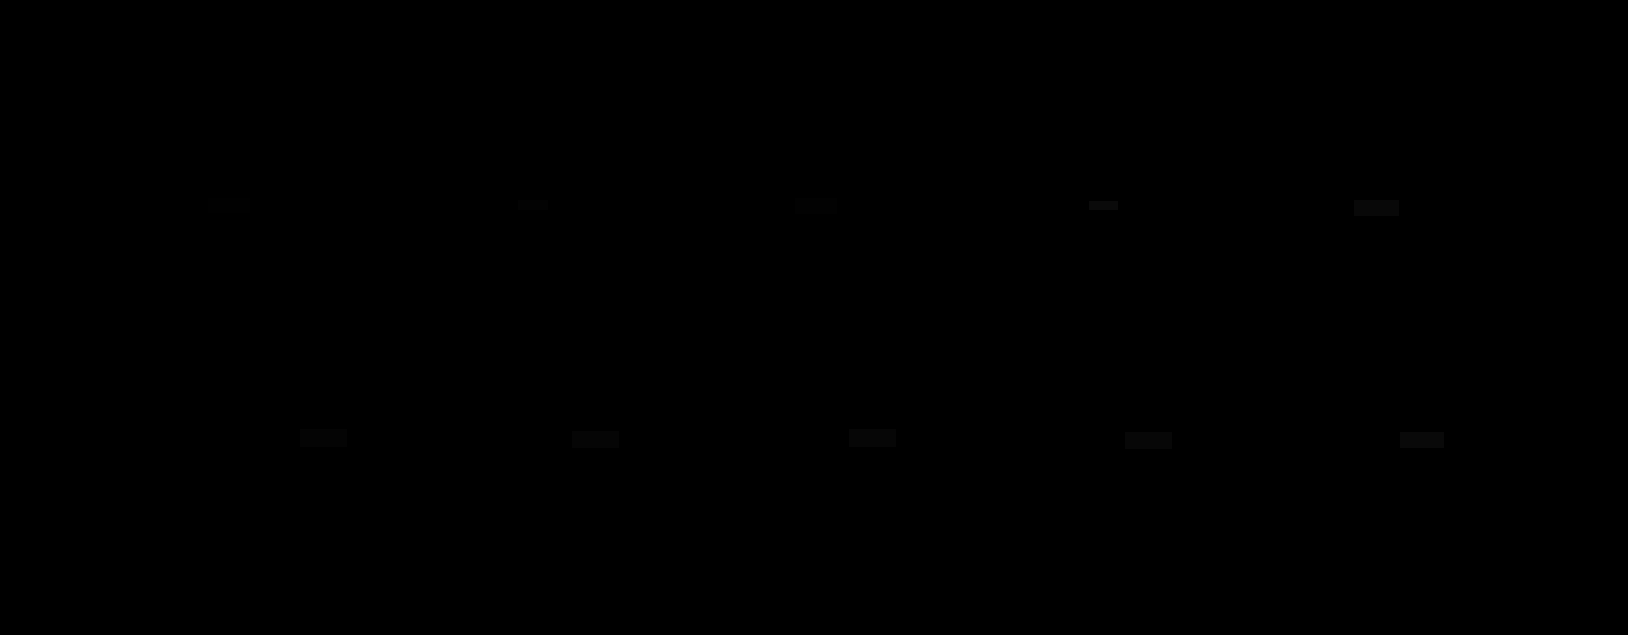light: (300, 429, 347, 447), (849, 429, 896, 447), (572, 431, 619, 448), (1125, 432, 1172, 449), (1400, 432, 1444, 448), (1354, 200, 1399, 216), (795, 198, 837, 214), (208, 198, 250, 213), (518, 200, 548, 210), (1089, 201, 1118, 210)
